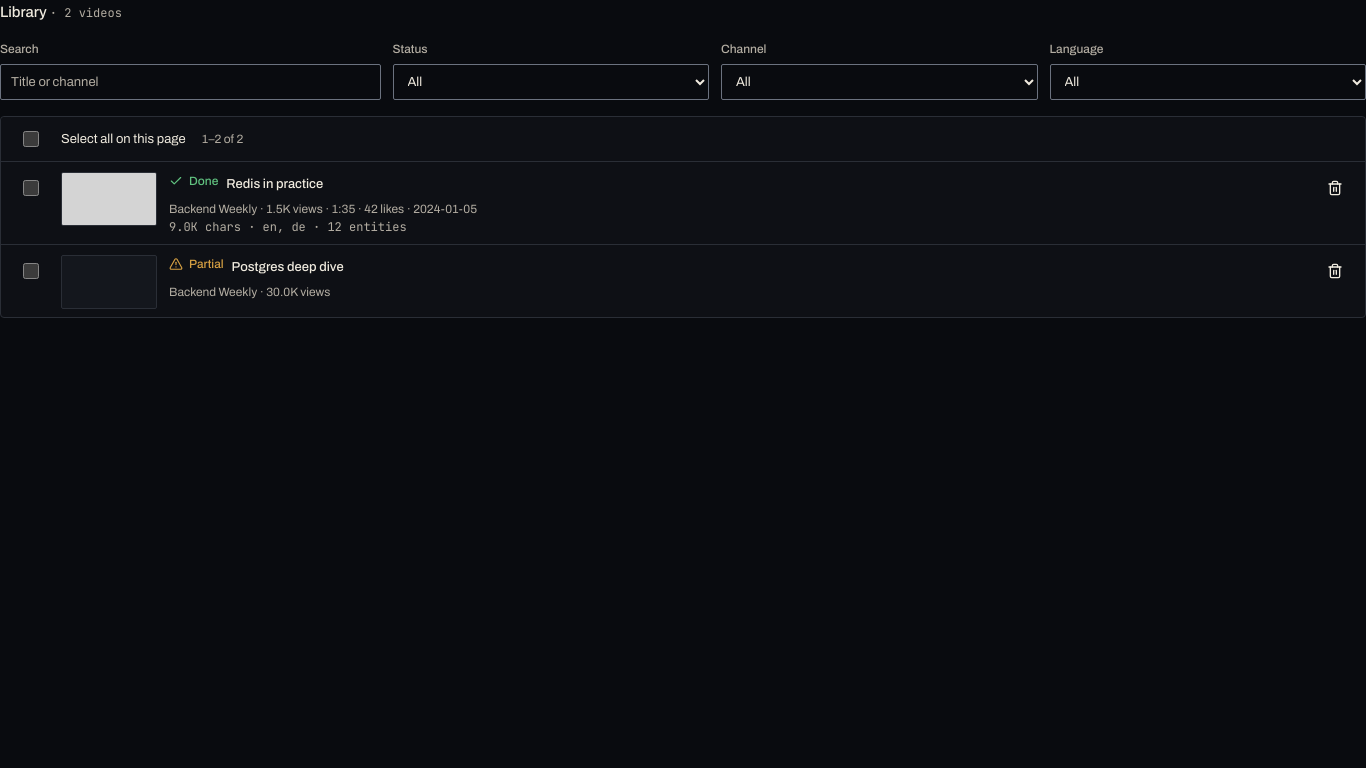
LibraryPanel › selects rows, shows the bulk bar and bulk-deletes through the confirm dialog
The image size is (1366, 768).
Expected: the link "Redis in practice" is shown, 226,176 -> 493,191
Click the checkbox named "Select Redis in practice": (31, 188) 23,180 -> 39,196
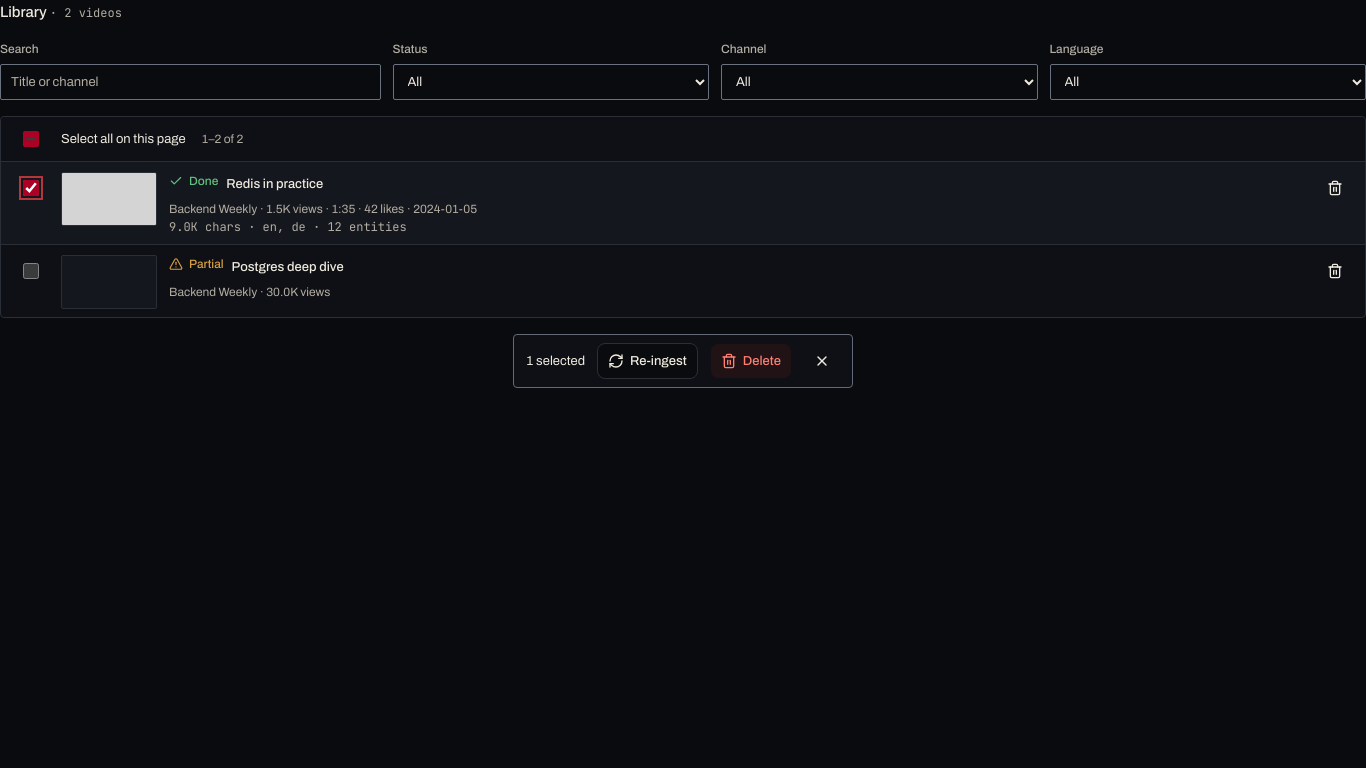
Now the text "1 selected" is shown, box 526,351 -> 585,371
Click the checkbox named "Select all videos on this page": (31, 139) 23,131 -> 39,147
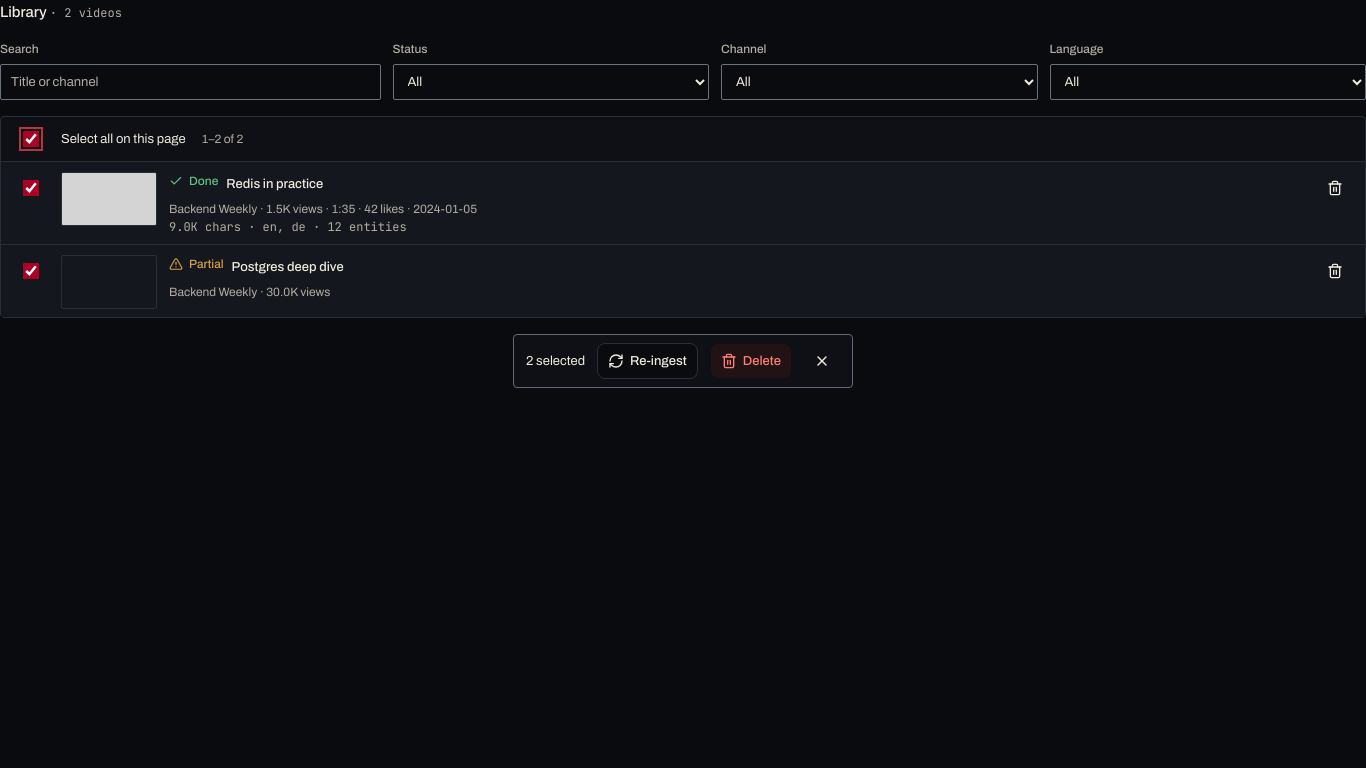
Now the text "2 selected" is shown, box 526,351 -> 585,371
Click the button "Delete": (751, 361) 710,343 -> 792,379
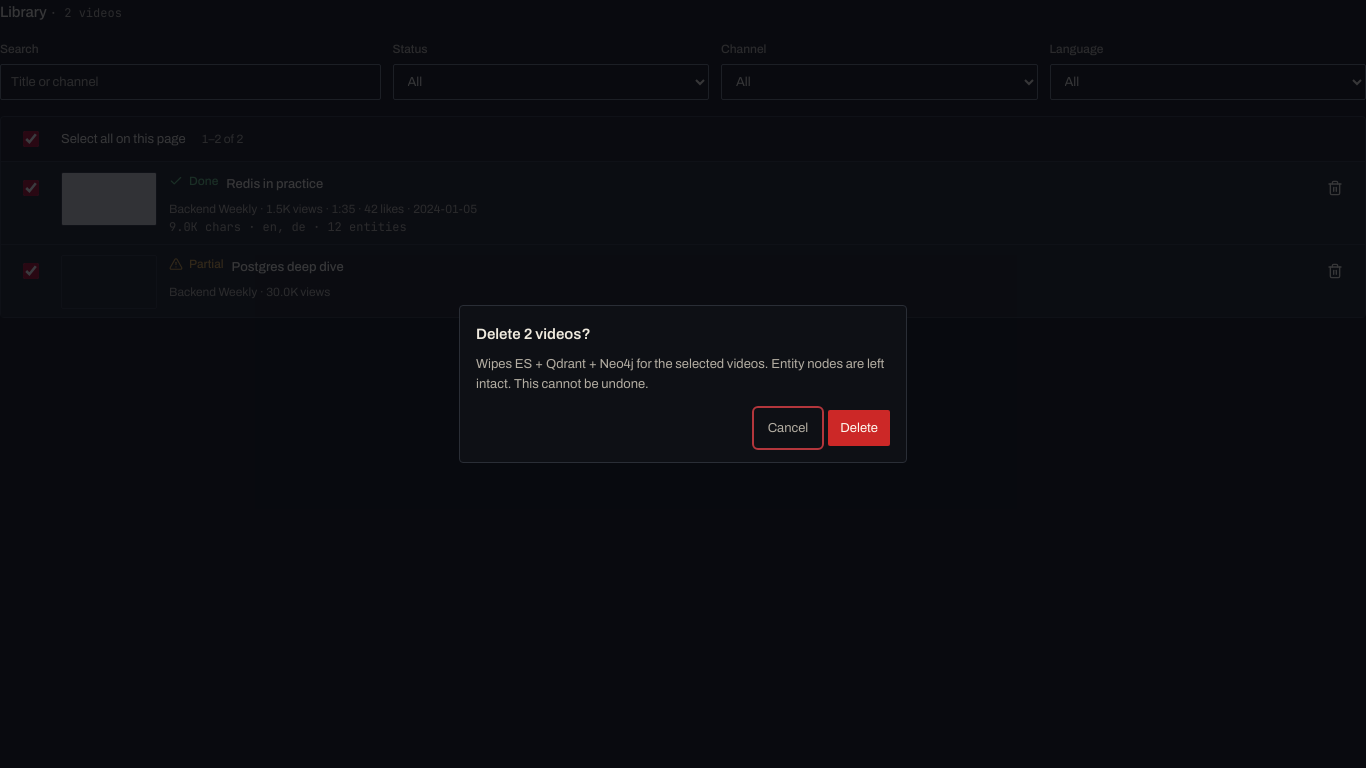
Now the heading "Delete 2 videos?" is shown, box 476,326 -> 591,342
Click the button "Delete": (859, 428) 828,410 -> 890,446
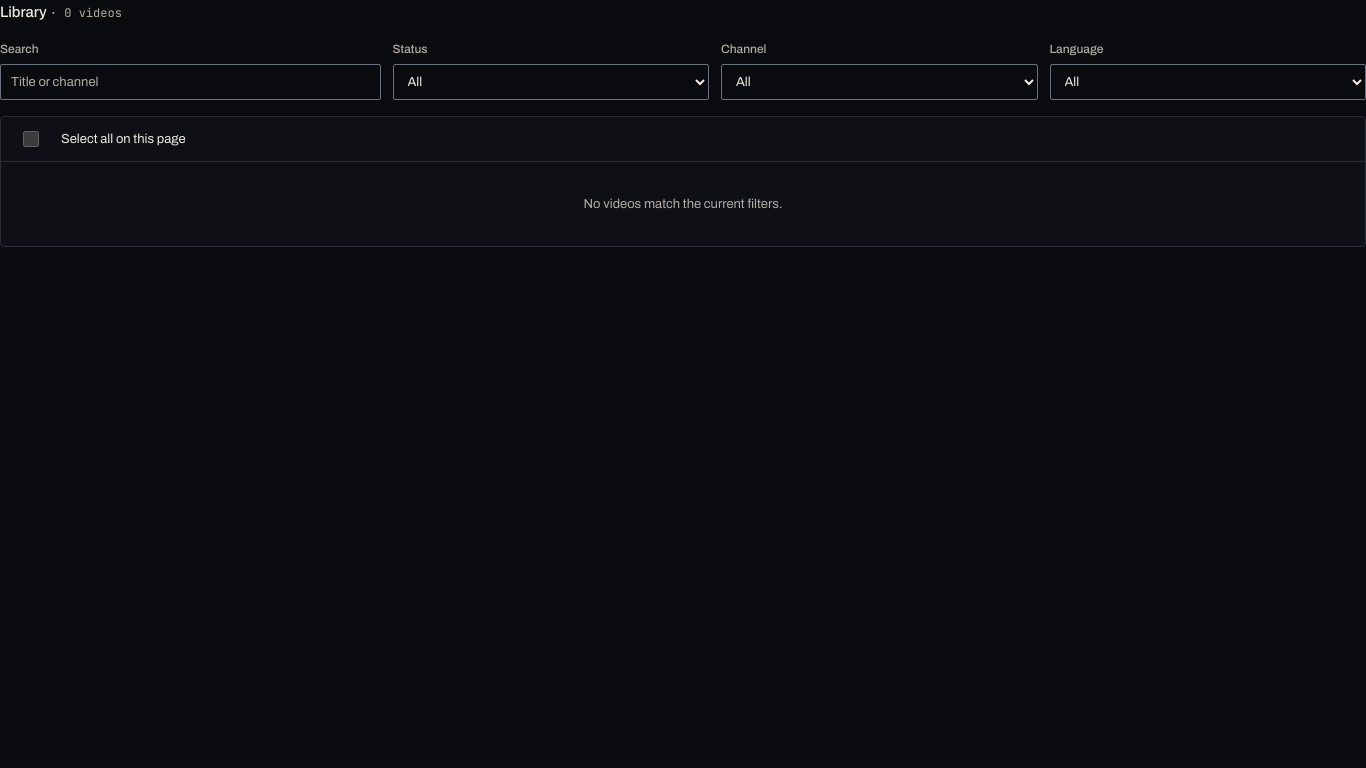
Now the text "2 selected" is gone
